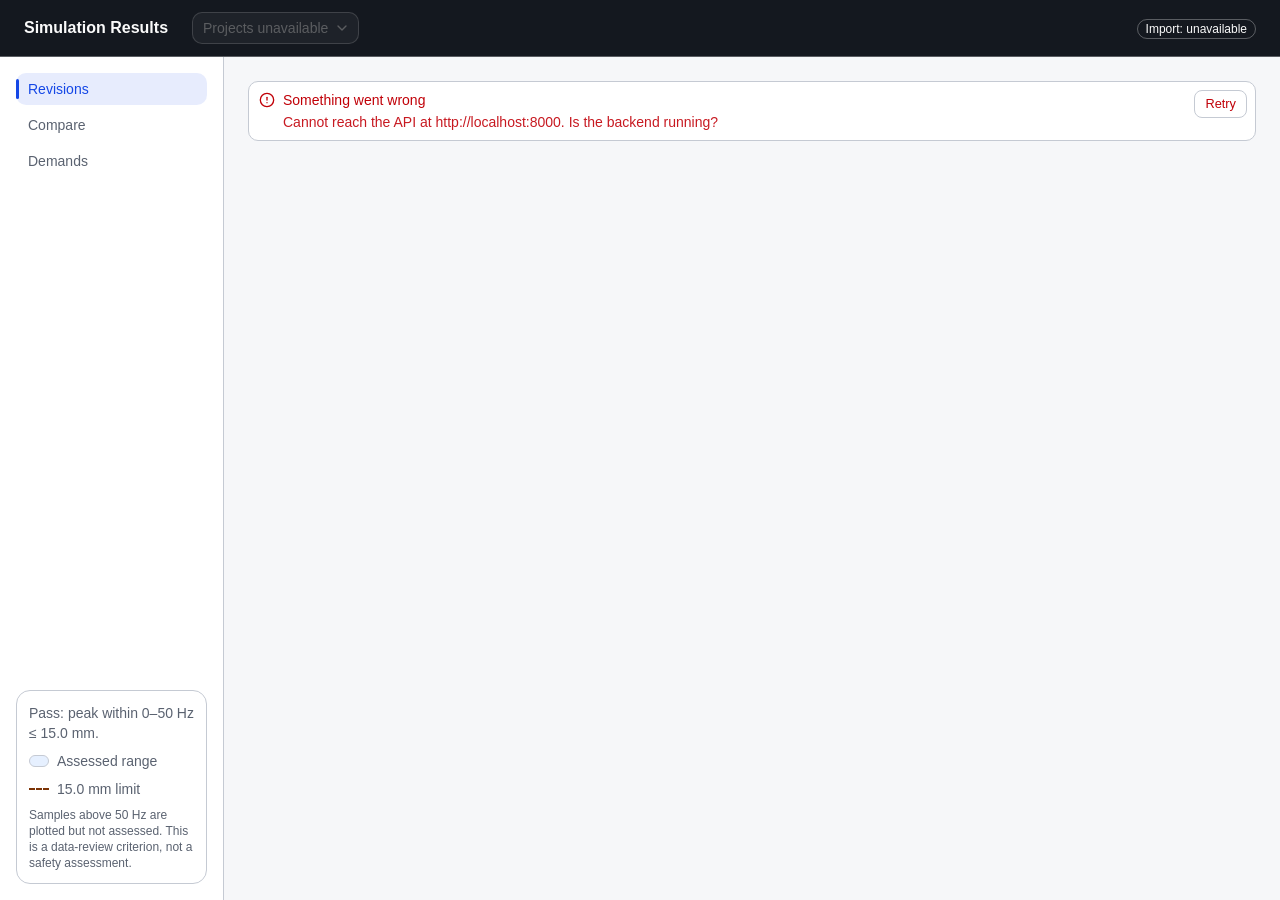
Test: shows a network failure once, as a page card with Retry, and renders the page after a Retry that succeeds
Expected: the message is shown, 248,81 -> 1256,141
Expected: the message shows "Something went wrong", 283,92 -> 425,108
Click the button "Retry": click(1221, 104) 1194,90 -> 1247,118
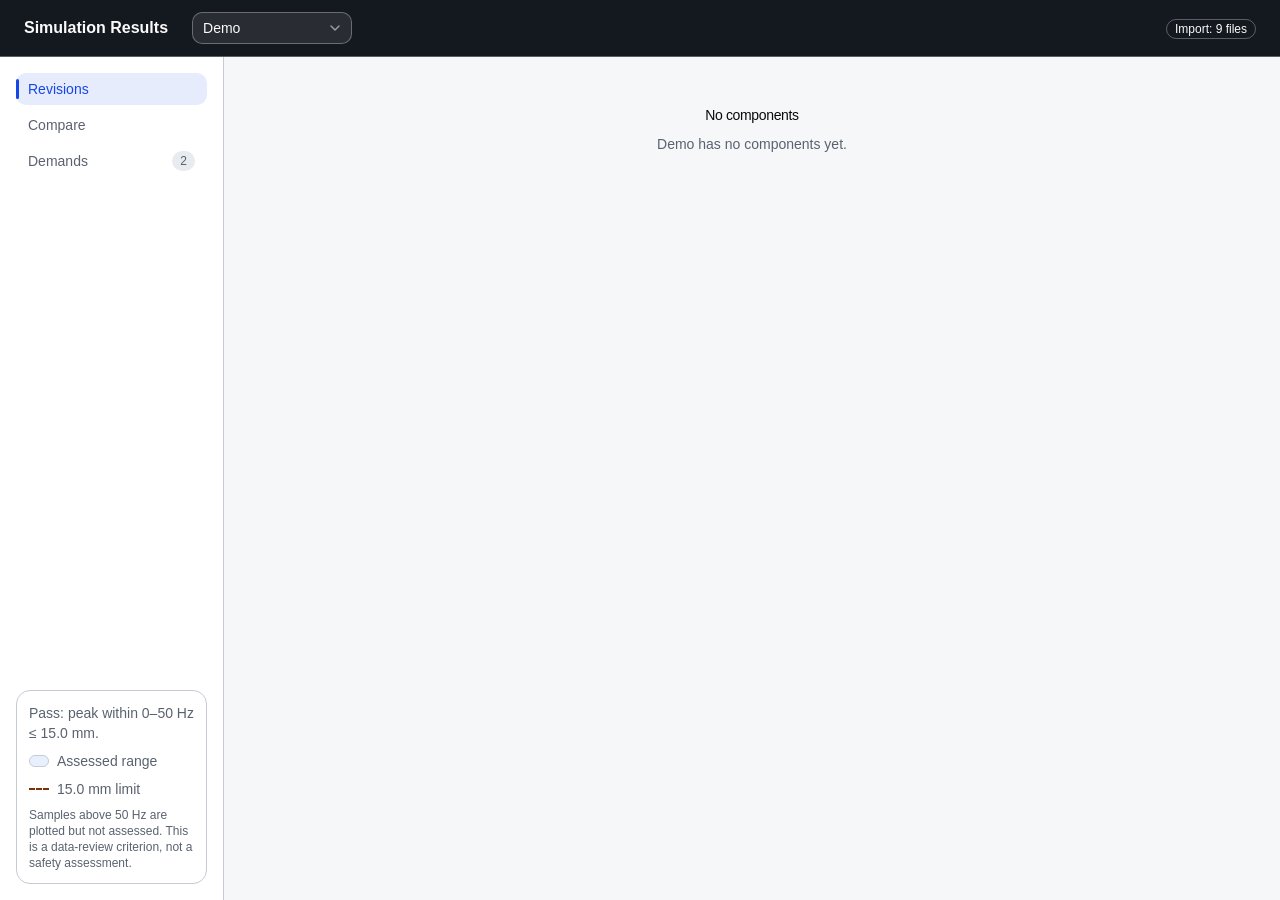
Expected: the text "No components" is shown, 705,105 -> 799,125
Expected: the message is gone
Expected: the button "Retry" is gone
